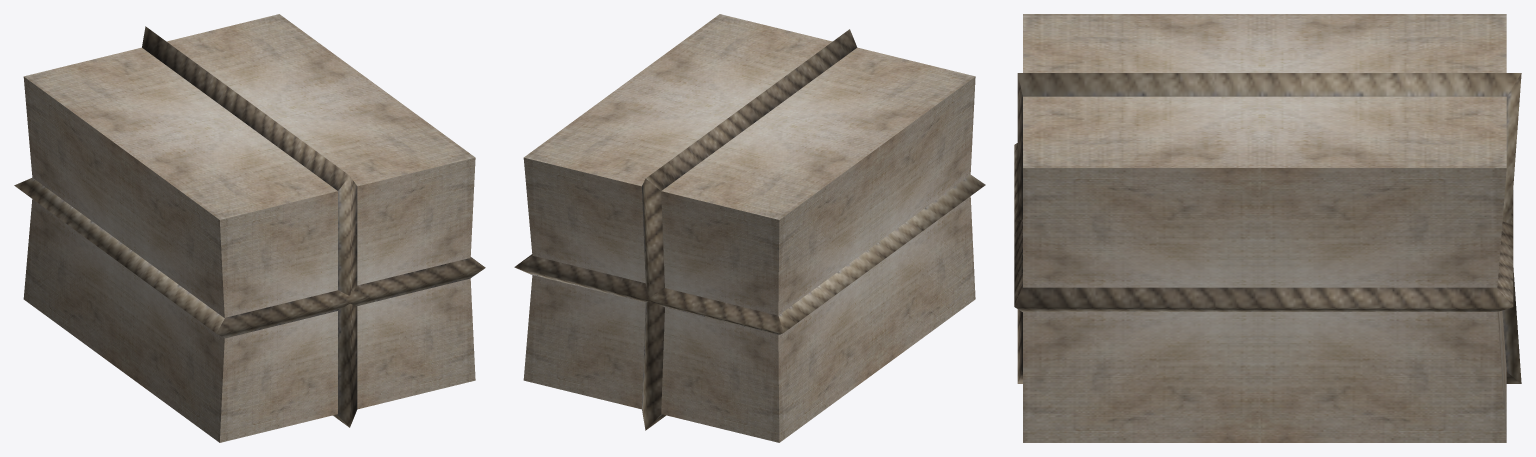
File: Package_Type_02_A.fbx
3 views of the same model, side by side, from view 1: azimuth 30°, elevation 25°; view 2: azimuth 150°, elevation 25°; view 3: azimuth 270°, elevation 25° (orthographic). The views are drawn at different scales.
Parts seen in each view (by area): view 1: Package_Type_02_A; view 2: Package_Type_02_A; view 3: Package_Type_02_A.
Part boxes in pixels (x1,y1,x2,y2): Package_Type_02_A: (14,14,485,442); Package_Type_02_A: (514,14,985,442); Package_Type_02_A: (1014,14,1521,442).
Bounding box in the file's own units: 0.6549 × 0.5856 × 0.8653.
